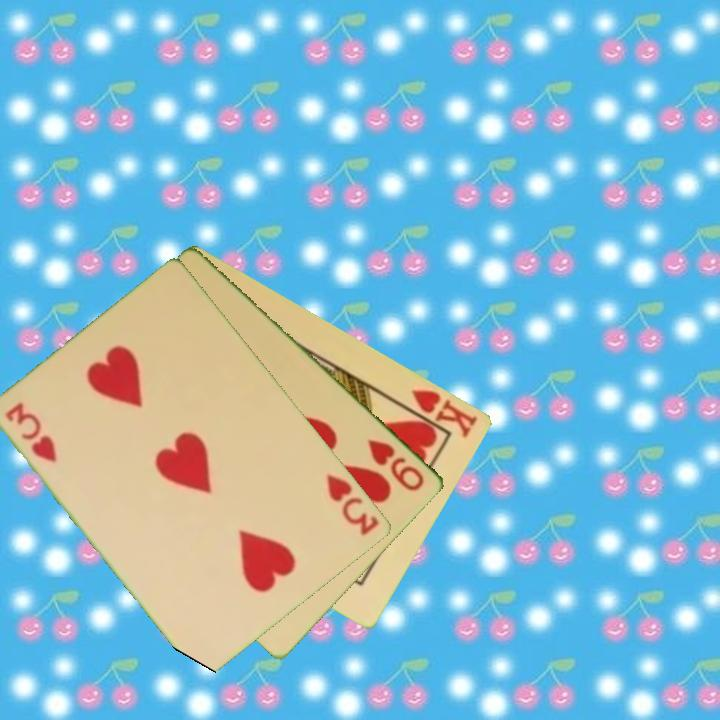3h: (323, 470, 383, 539), (2, 398, 61, 466)
9h: (364, 435, 428, 494)
Kh: (397, 385, 481, 441)
